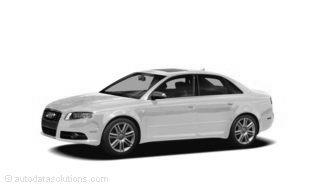car: (40, 67, 275, 160)
